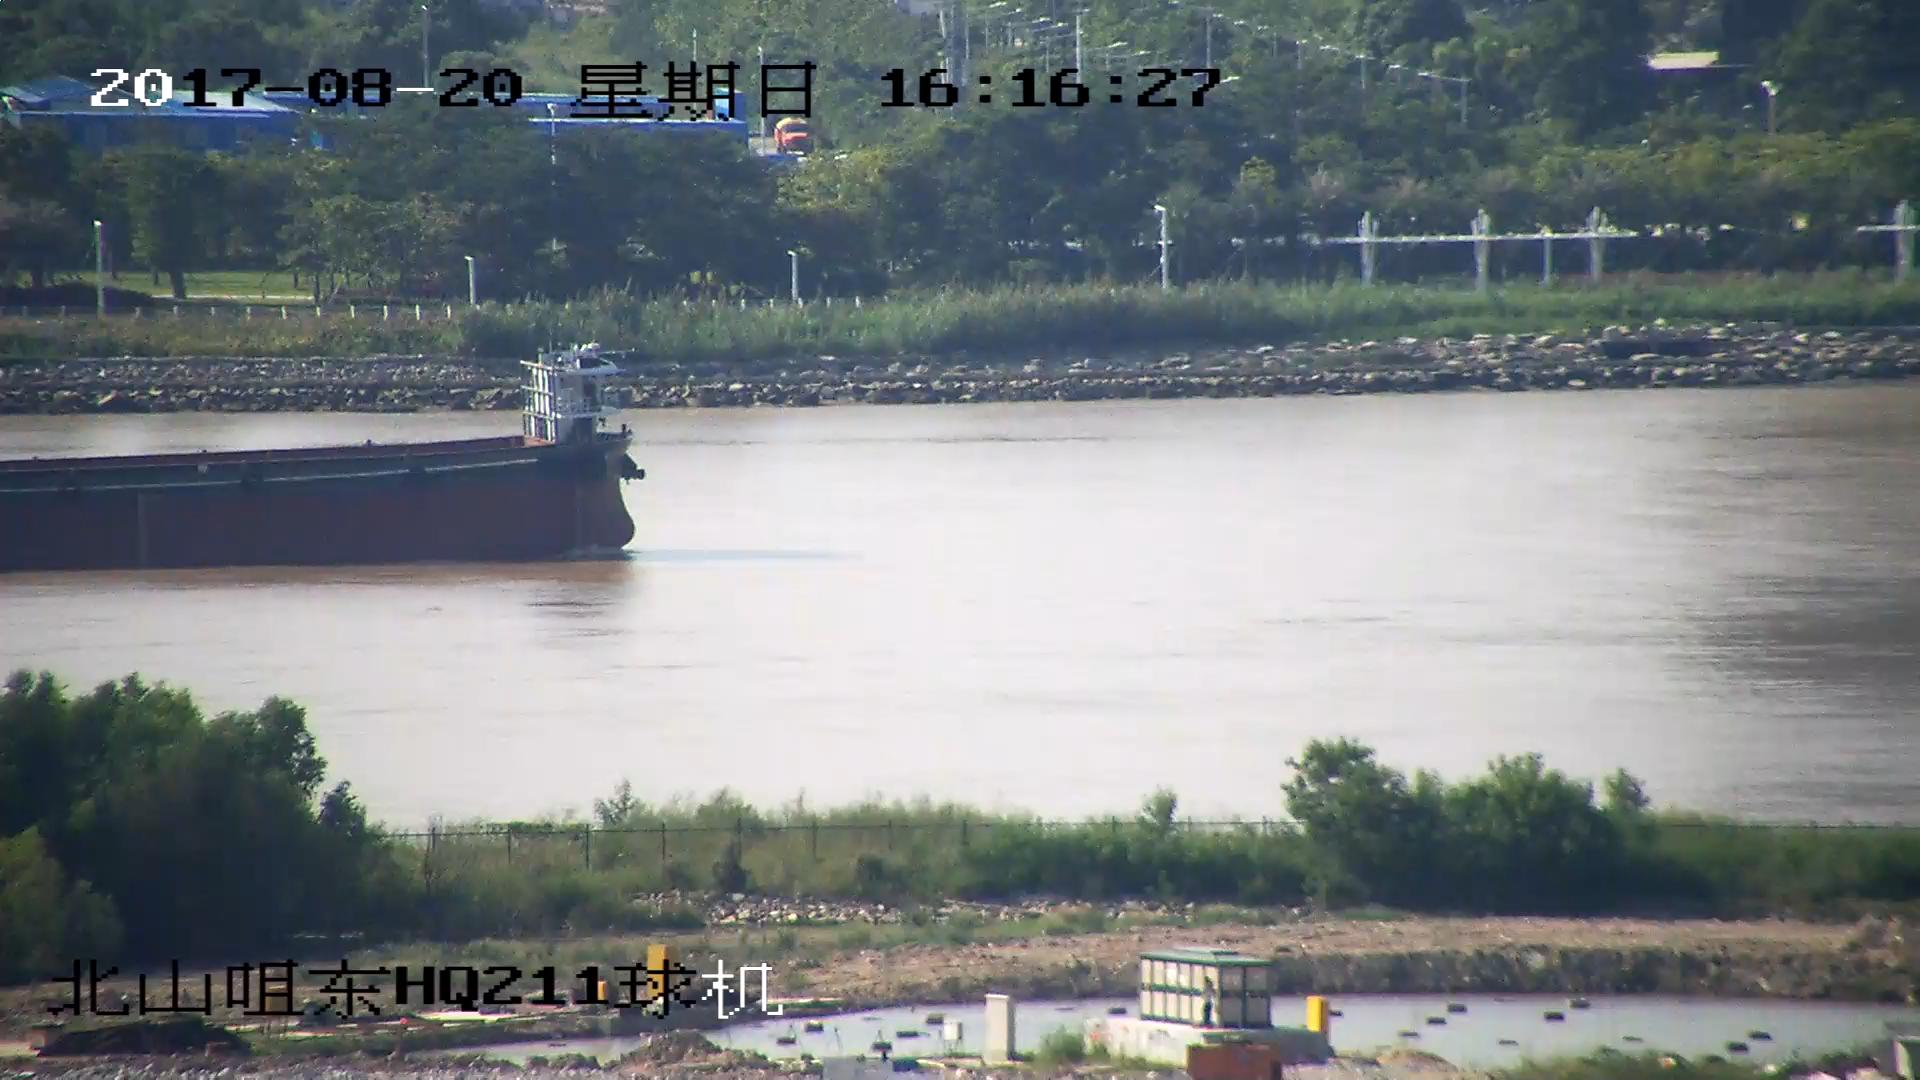general cargo ship: (1, 362, 643, 568)
